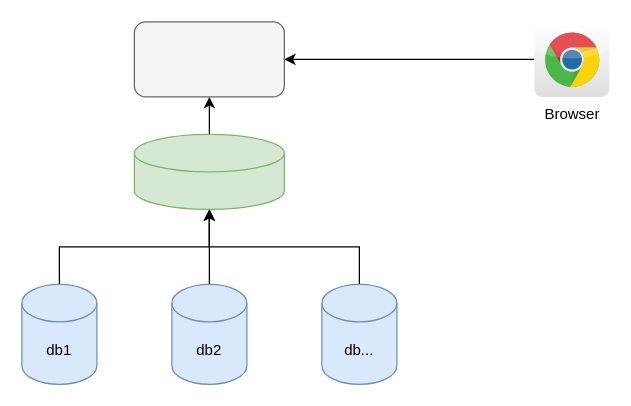
This 631x406 diagram has some shape labels left out. The centre of each missing label's shape, as x and y in pixels:
"databricks" goes at (208,171).
"GuanYuan BI" goes at (208,59).
